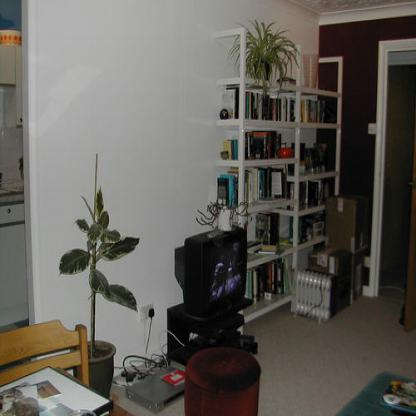chair: (0, 320, 89, 388)
pottedplant: (57, 185, 140, 402), (227, 18, 300, 81)
tvmonitor: (172, 223, 249, 324)
